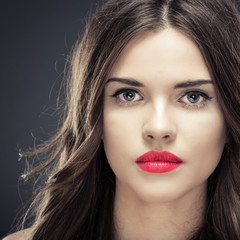teen: (88, 28, 217, 191)
